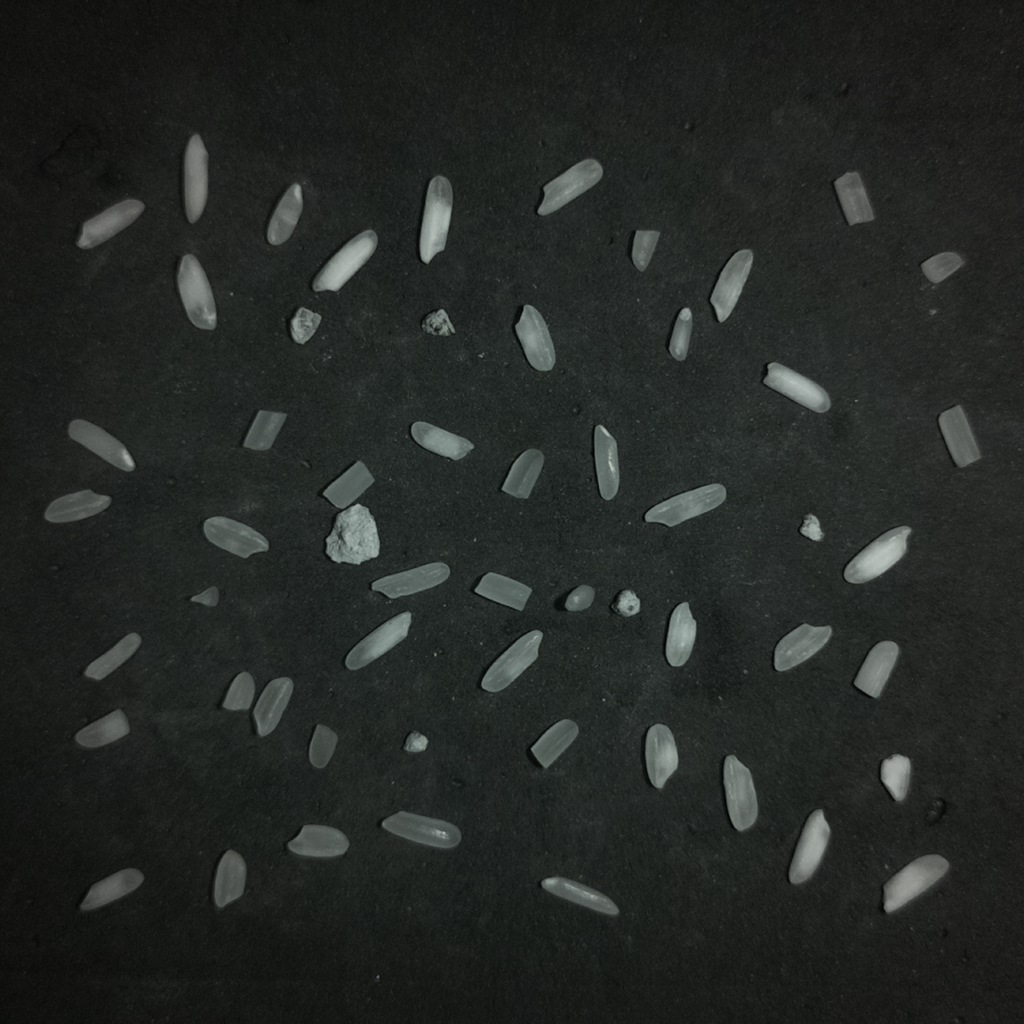broken: (537, 158, 602, 215), (773, 623, 832, 671), (79, 868, 143, 911), (84, 632, 141, 680), (203, 516, 268, 557), (938, 404, 980, 467), (723, 754, 757, 831), (515, 304, 554, 371), (252, 677, 293, 736), (322, 461, 373, 508), (530, 719, 578, 768), (44, 489, 110, 523), (74, 709, 130, 749), (266, 183, 302, 245), (833, 171, 874, 225), (645, 723, 678, 789), (474, 572, 531, 610), (501, 448, 543, 499), (287, 824, 348, 858), (212, 849, 246, 907), (243, 410, 286, 450), (668, 307, 693, 361), (921, 251, 963, 283), (308, 723, 337, 769), (221, 671, 254, 710), (631, 230, 659, 271), (564, 584, 594, 611), (190, 586, 219, 606)
chalky: (311, 229, 377, 291), (345, 611, 412, 670), (883, 854, 949, 912), (844, 526, 911, 583), (763, 362, 830, 412), (76, 199, 144, 248), (788, 809, 830, 884), (710, 250, 753, 321), (177, 254, 216, 329), (419, 176, 452, 263), (853, 640, 900, 698), (410, 421, 473, 460), (182, 134, 208, 223), (880, 754, 911, 801)
foreign: (325, 504, 379, 564), (289, 307, 321, 343), (421, 308, 455, 336), (612, 589, 640, 616), (799, 514, 823, 541), (403, 731, 428, 753)
whole: (481, 630, 542, 692), (644, 483, 726, 526), (67, 419, 134, 471), (541, 876, 618, 916), (381, 811, 460, 848), (371, 563, 450, 598), (593, 424, 619, 500), (666, 602, 696, 667)
